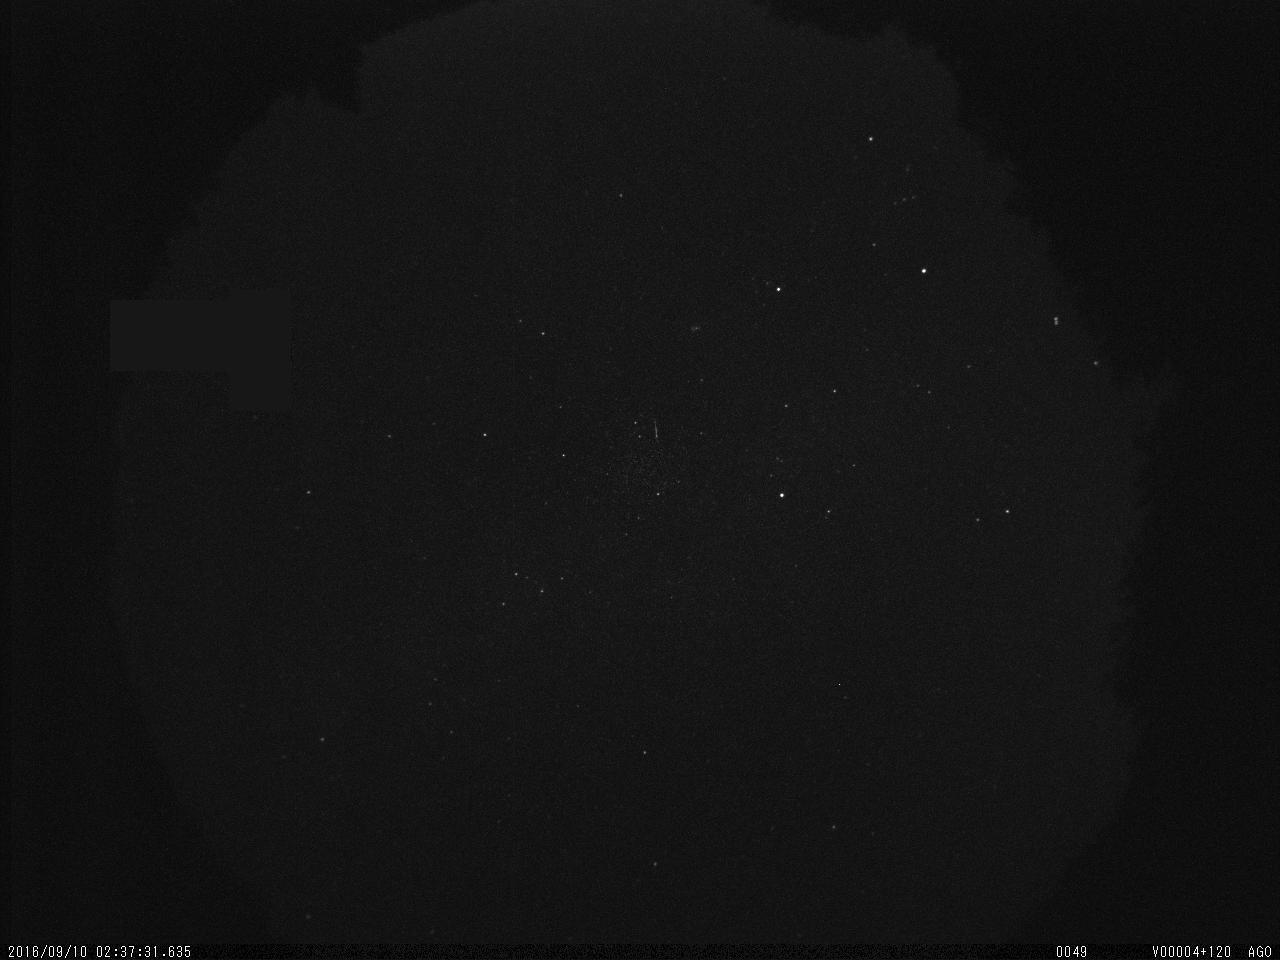meteor: (646, 414, 669, 452)
